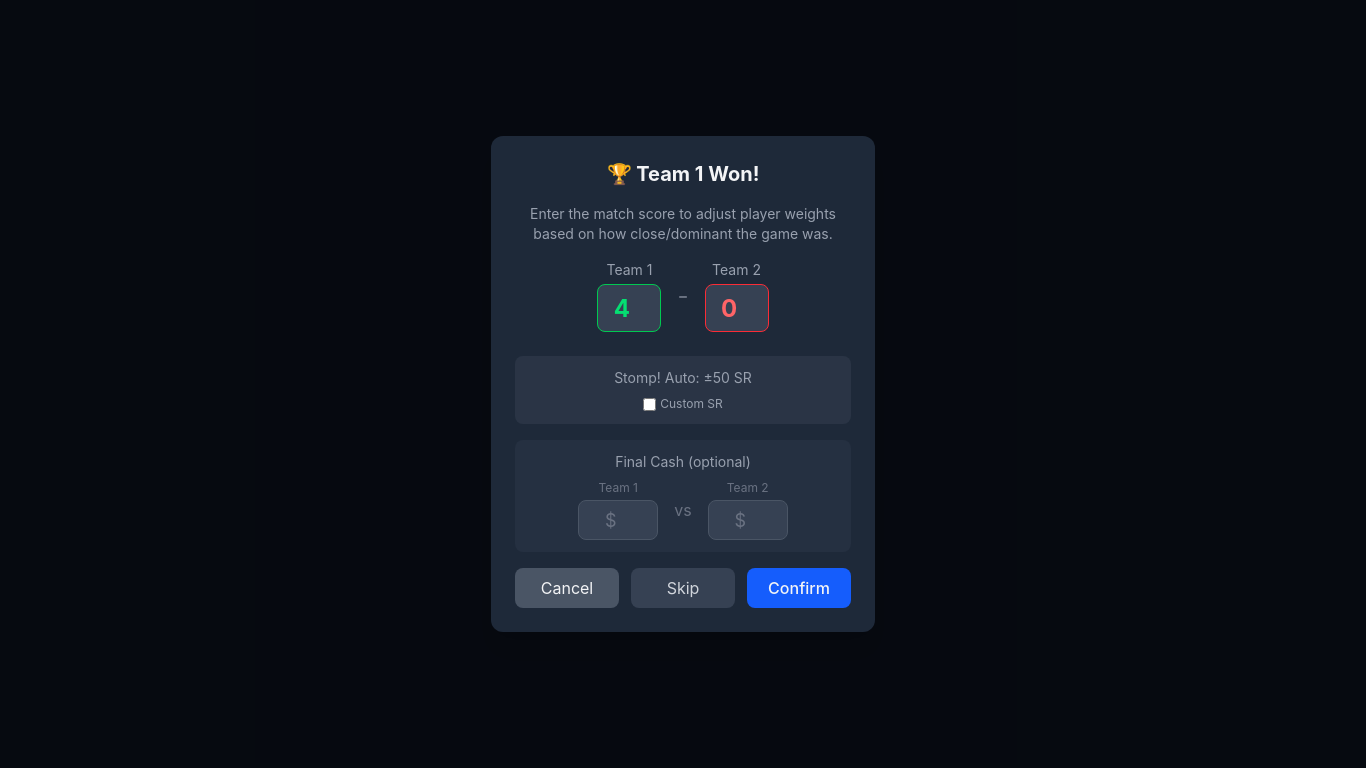
Test: MatchScoreModal › score validation › should show error when winner score is not greater than loser
Replace the text in the 1st number field with "3" at [630, 308], box [598,284,662,332]
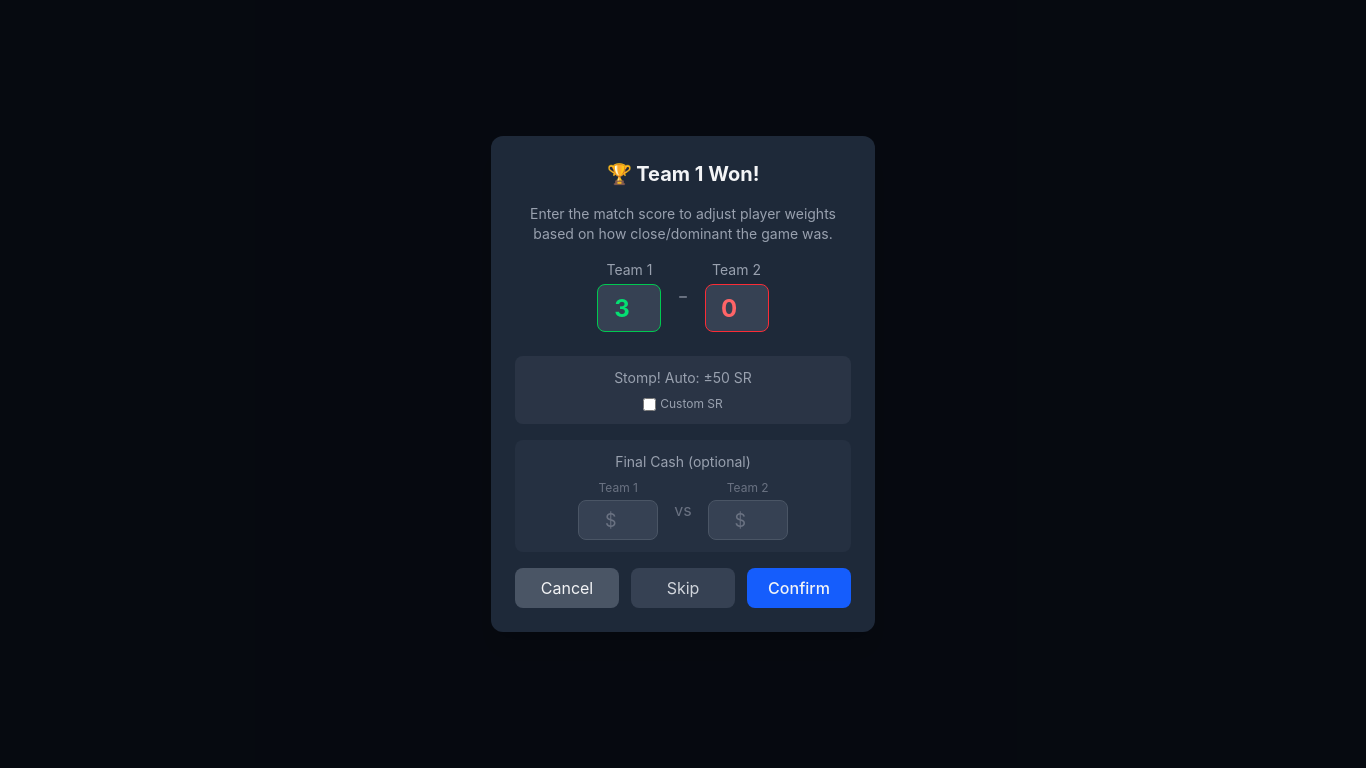
Replace the text in the 2nd number field with "3" at [736, 308], box [704,284,768,332]
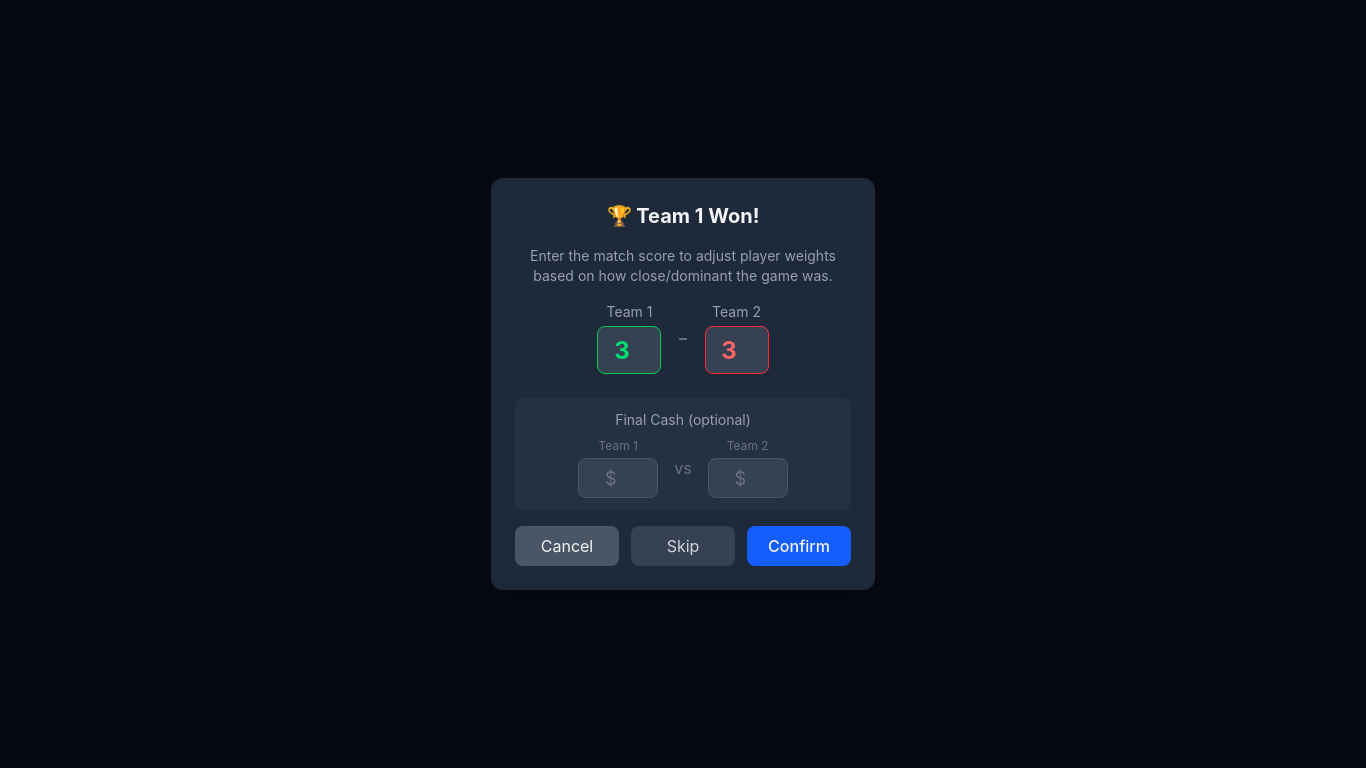
Click the button "Confirm" at [799, 546], box [747,526,851,566]
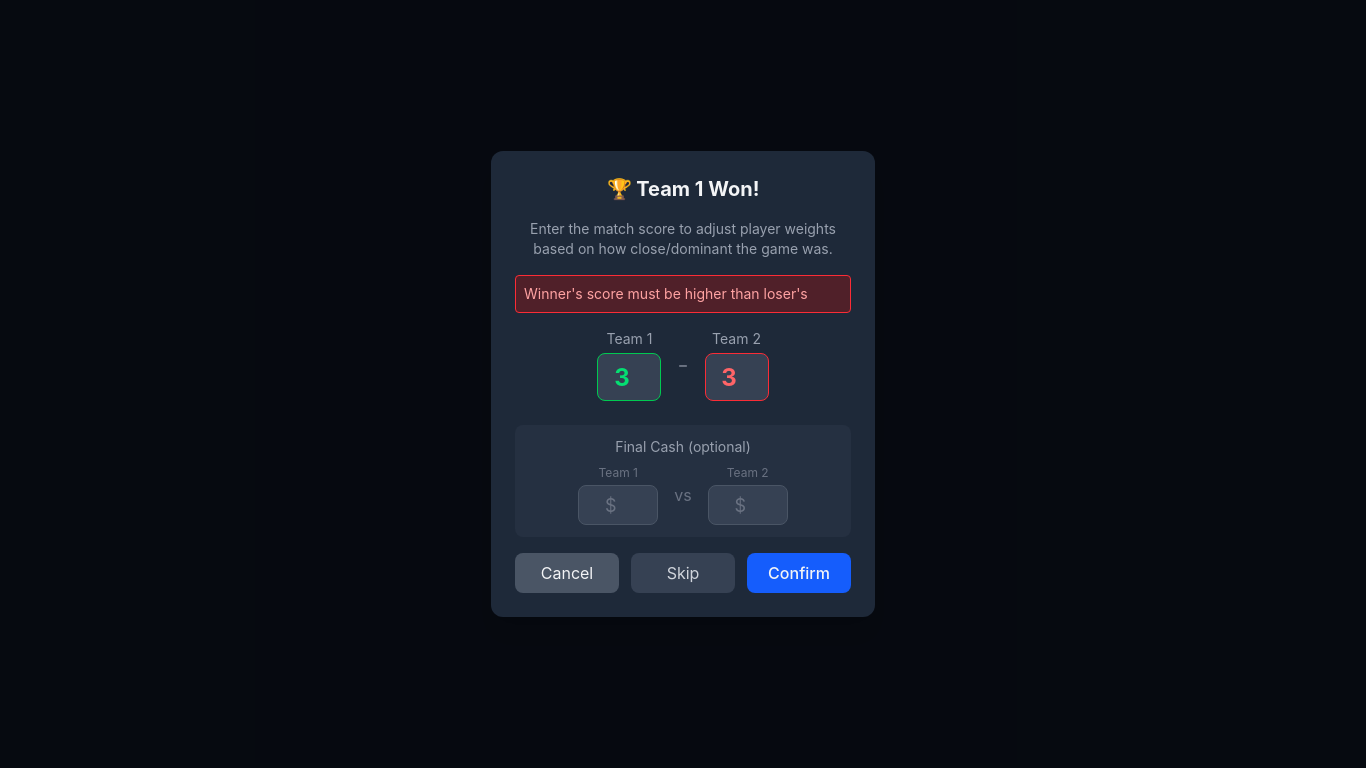
expect the text "Winner's score must be higher than loser's" is shown: met, box [515,275,851,313]
